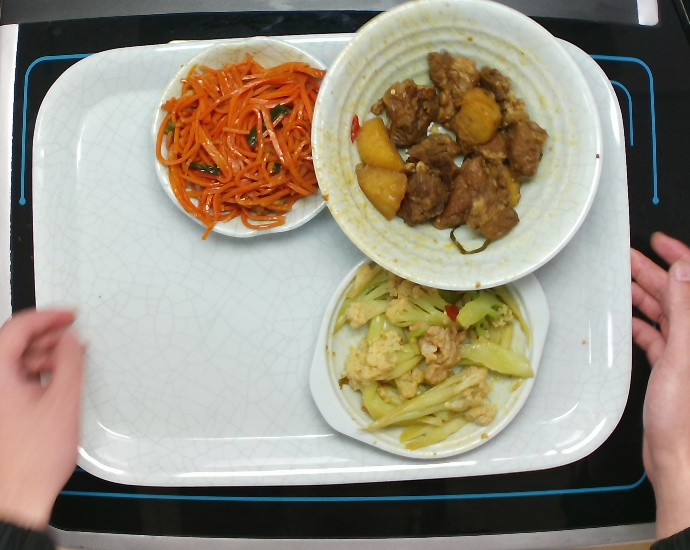JYsf-Ao_Yuan_Wan: (150, 33, 355, 243)
JYsf-Shuang_Er_Pan: (305, 232, 554, 465)
JYsf-Xiao_Tang_Wan: (293, 1, 615, 308)
